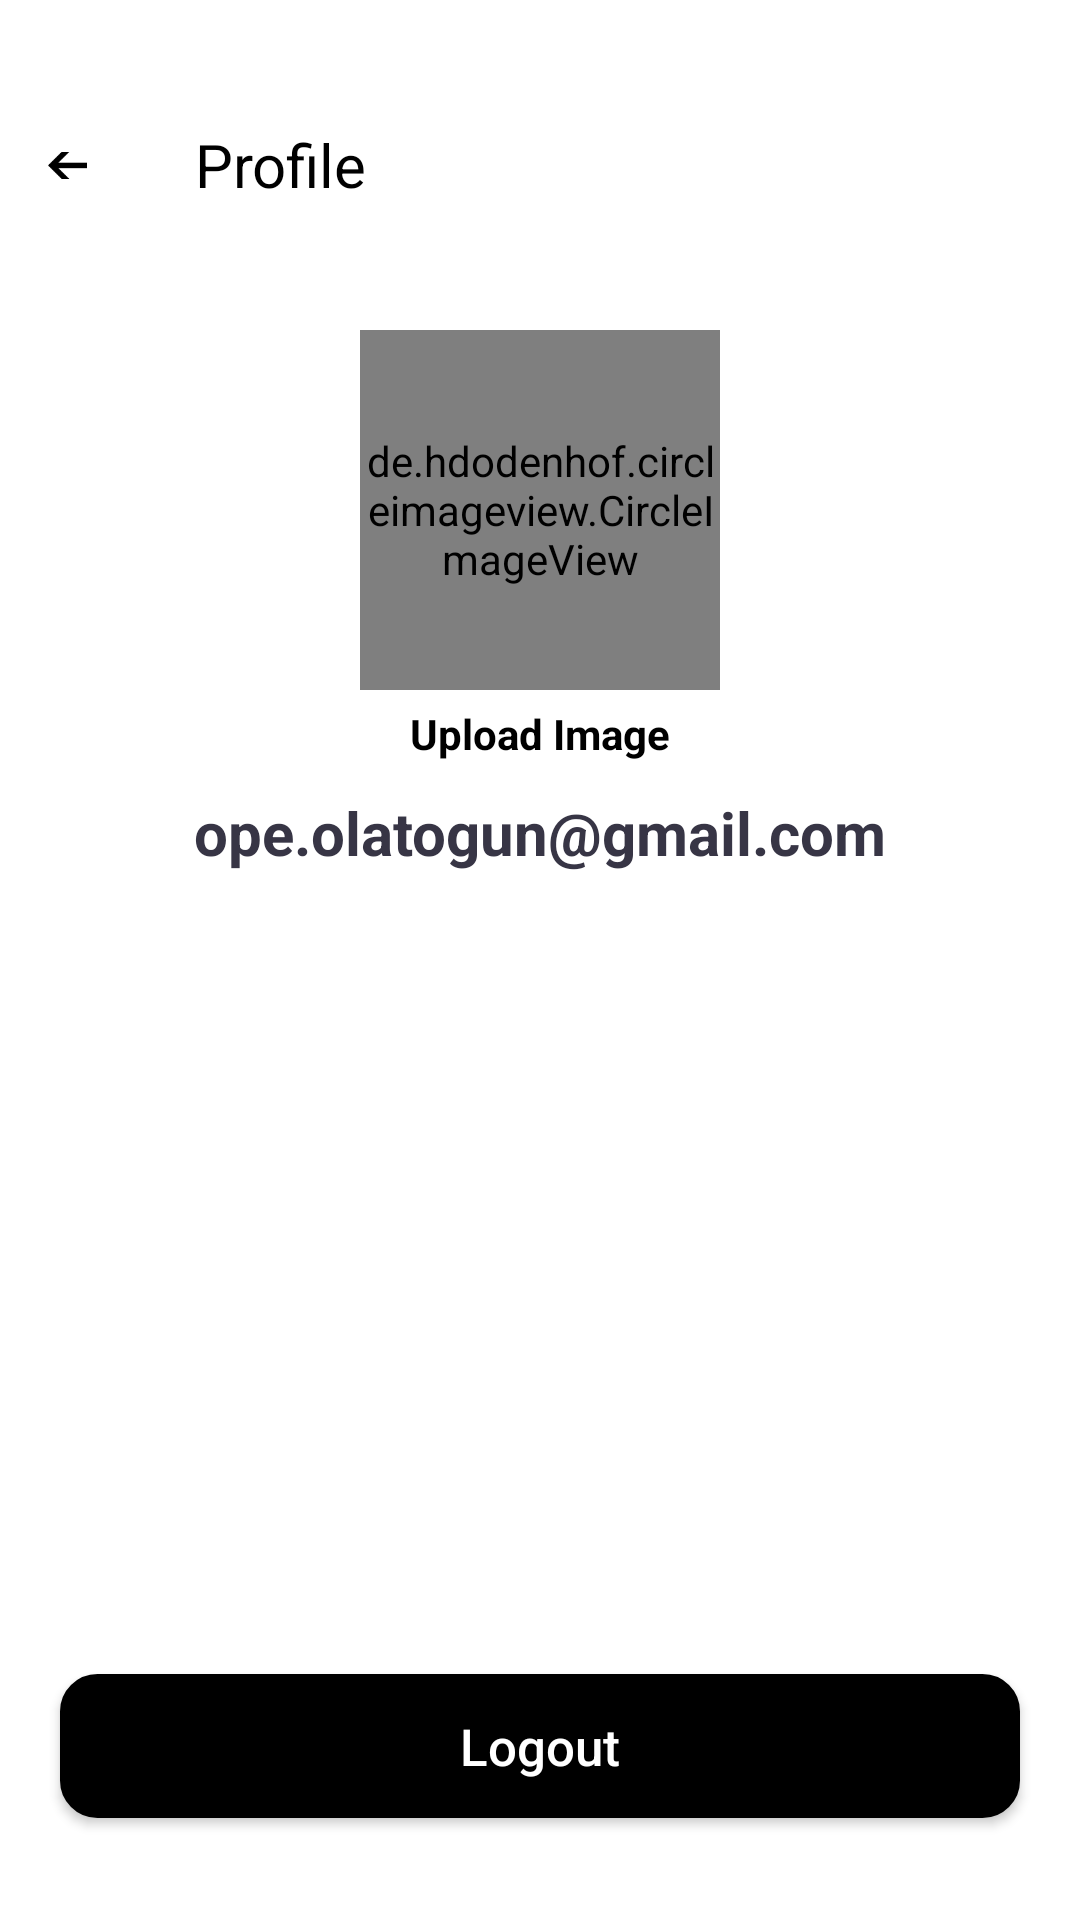

Icon click points for this 1080 × 1920 phone screenshot, format (x,y):
back: (67,165)
